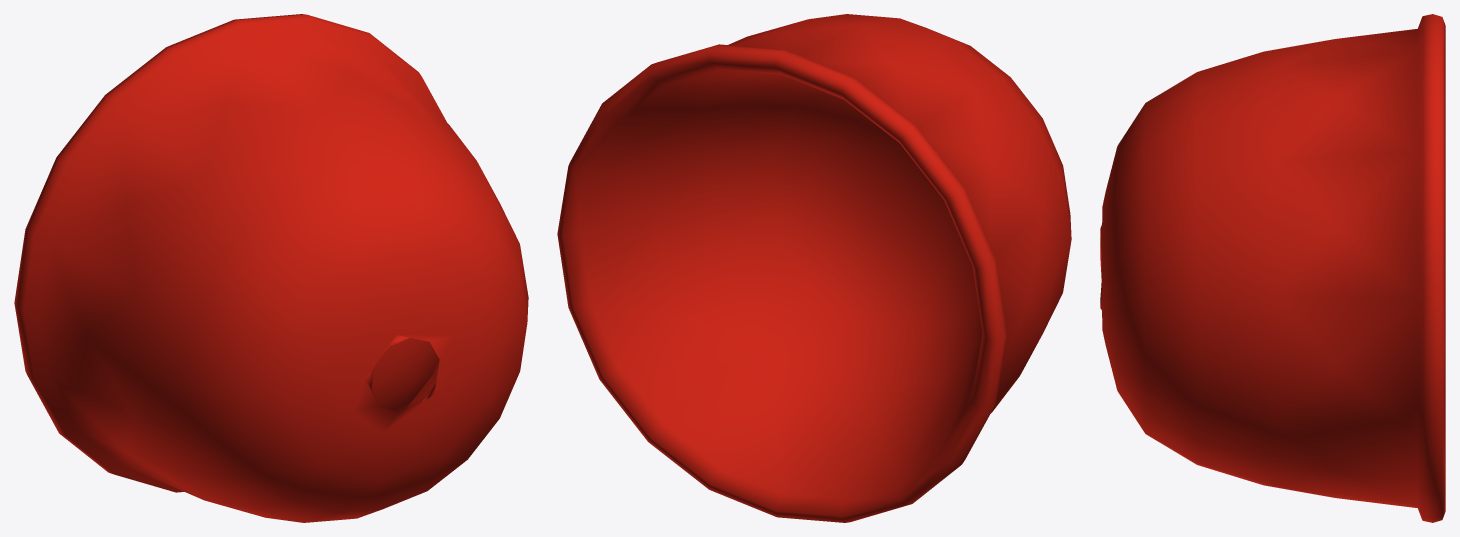
Rendered from MeshPlunger_0_GeomSubset_0.obj.
3 renders of one model, left to right at view 1: azimuth 30°, elevation 25°; view 2: azimuth 150°, elevation 25°; view 3: azimuth 270°, elevation 25°, orthographic.
Parts seen in each view (by area): view 1: MeshPlunger_0_GeomSubset_0; view 2: MeshPlunger_0_GeomSubset_0; view 3: MeshPlunger_0_GeomSubset_0.
Boxes of the visible parts, x1,y1,x2,y2 form: MeshPlunger_0_GeomSubset_0: [14, 14, 528, 522]; MeshPlunger_0_GeomSubset_0: [557, 14, 1071, 522]; MeshPlunger_0_GeomSubset_0: [1100, 14, 1445, 522].
Size of the model in its own units: 0.146 by 0.1458 by 0.0983.
